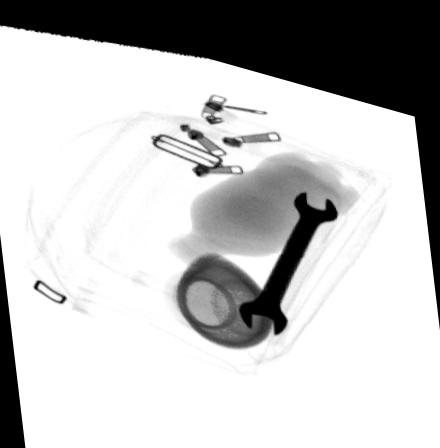Wrench: (236, 172, 340, 322)
